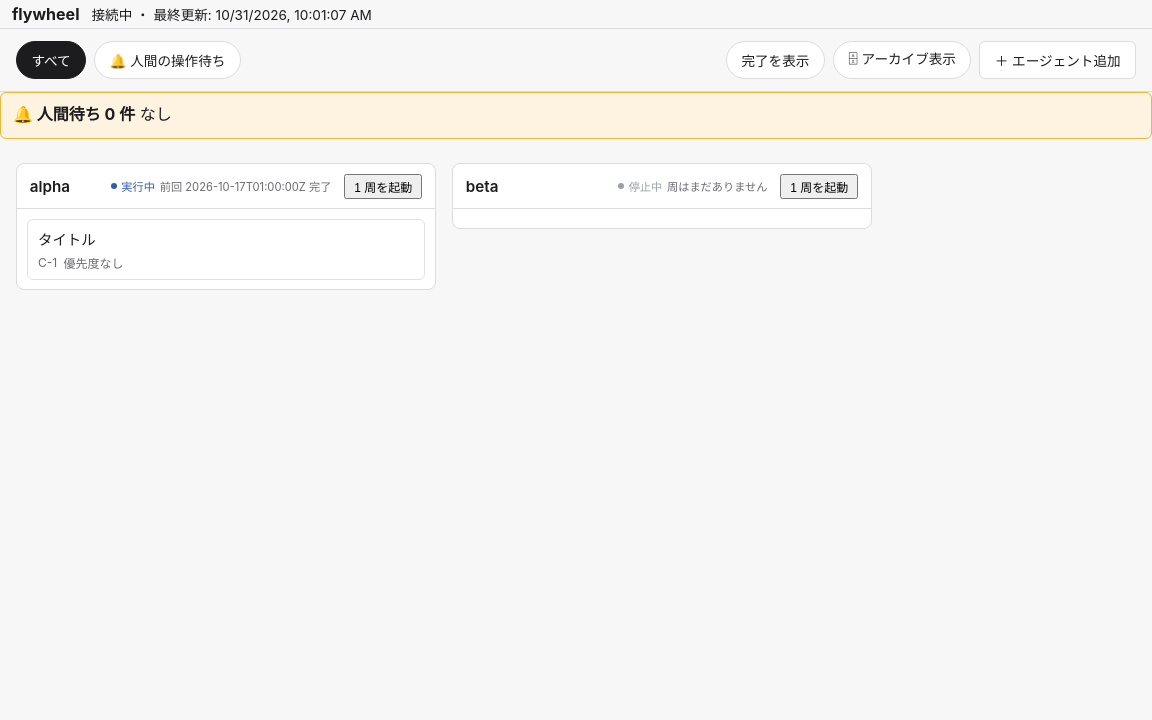
AC-113: 承認と差し戻しのそれぞれの記録が詳細に出る
What coordinates should you click on to do the following:
click the button "タイトル C-1 優先度なし"
I would click on:
 (67, 239)
Its box is top-left (28, 220), bottom-right (424, 279).
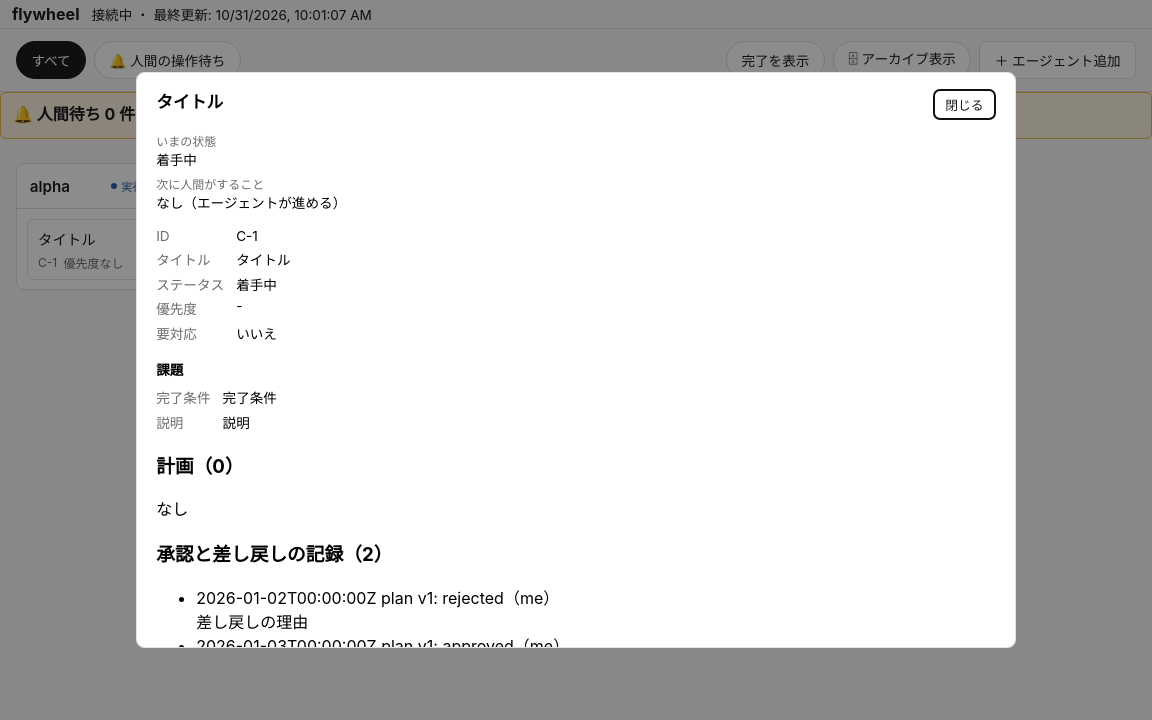
Check: the number of list items is 2, box top-left (196, 588), bottom-right (559, 632); top-left (196, 636), bottom-right (569, 648)
Check: the list item "2026-01-02T00:00:00Z plan v1: rejected（me） 差し戻しの理由" is shown, box top-left (196, 588), bottom-right (559, 632)
Check: the list item "2026-01-03T00:00:00Z plan v1: approved（me）" is shown, box top-left (196, 636), bottom-right (569, 648)
